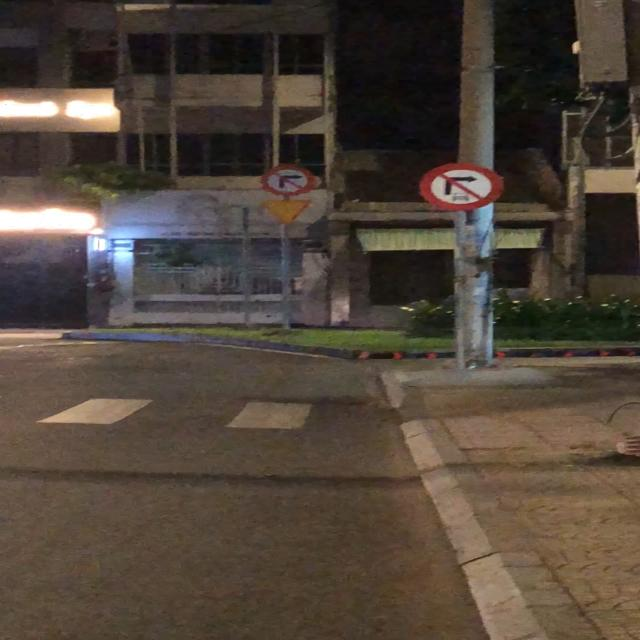Bien bao cam re phai: (259, 163, 316, 197)
Bien bao cam xe o to re phai: (416, 161, 507, 212)
Bien bao giao nhau voi duong uu tien: (258, 197, 318, 227)
